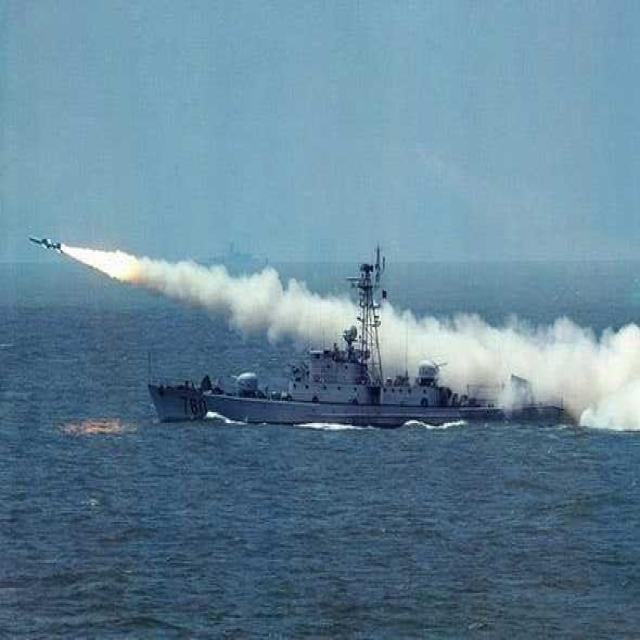missile: (28, 231, 62, 258)
